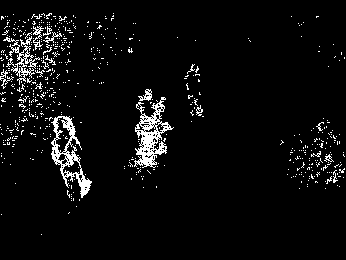person: (49, 114, 94, 204), (184, 63, 208, 123)
